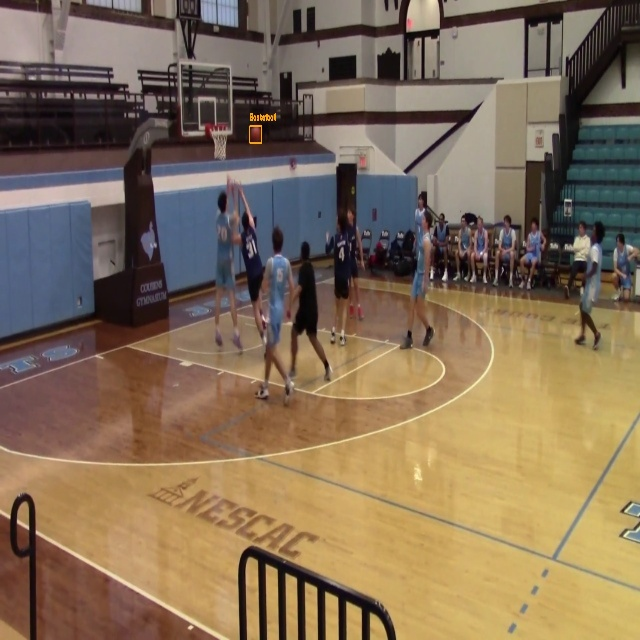Basketball: (250, 126, 262, 143)
